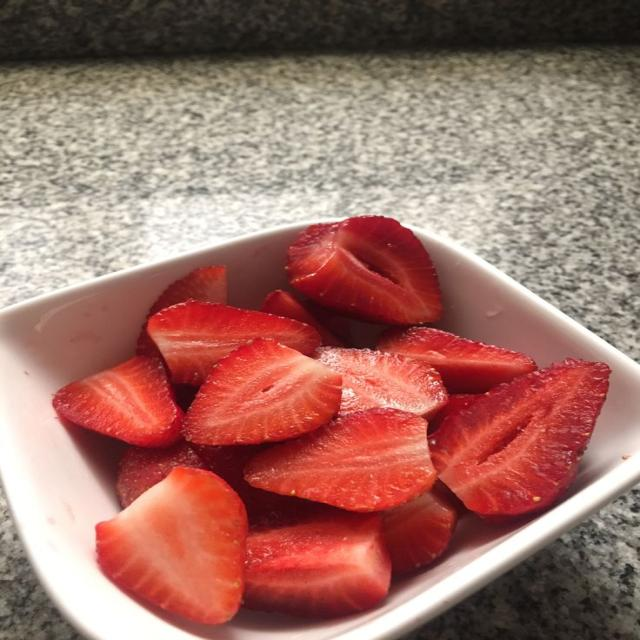strawberry sliced: (430, 359, 610, 518), (96, 468, 247, 624), (246, 408, 435, 511), (287, 216, 441, 324), (183, 339, 341, 444), (245, 510, 390, 618), (147, 301, 320, 385), (54, 357, 183, 447), (377, 328, 536, 393), (193, 445, 306, 526), (316, 348, 447, 417), (383, 483, 457, 574), (116, 442, 206, 507), (262, 290, 344, 346), (147, 266, 227, 318), (149, 266, 227, 316), (428, 395, 480, 435)
